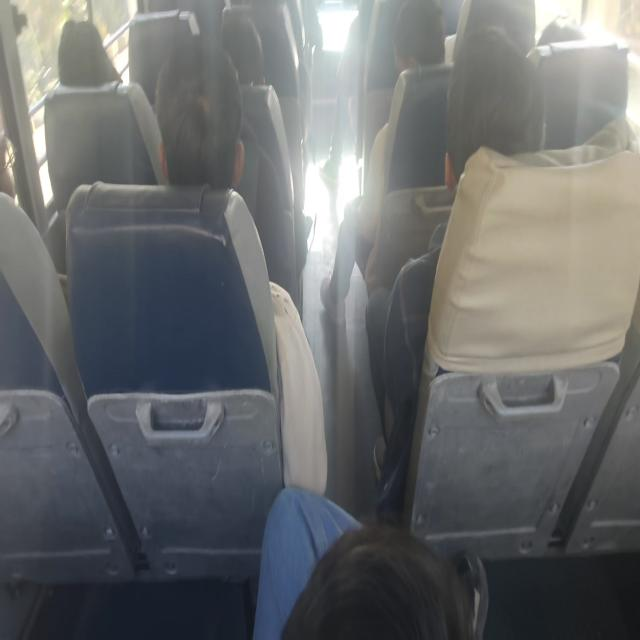person: (365, 24, 545, 514), (153, 35, 328, 494), (320, 0, 447, 322), (252, 485, 488, 638), (154, 36, 245, 190), (318, 0, 374, 188), (56, 18, 123, 88)
